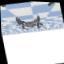drone: (12, 12, 43, 31)
